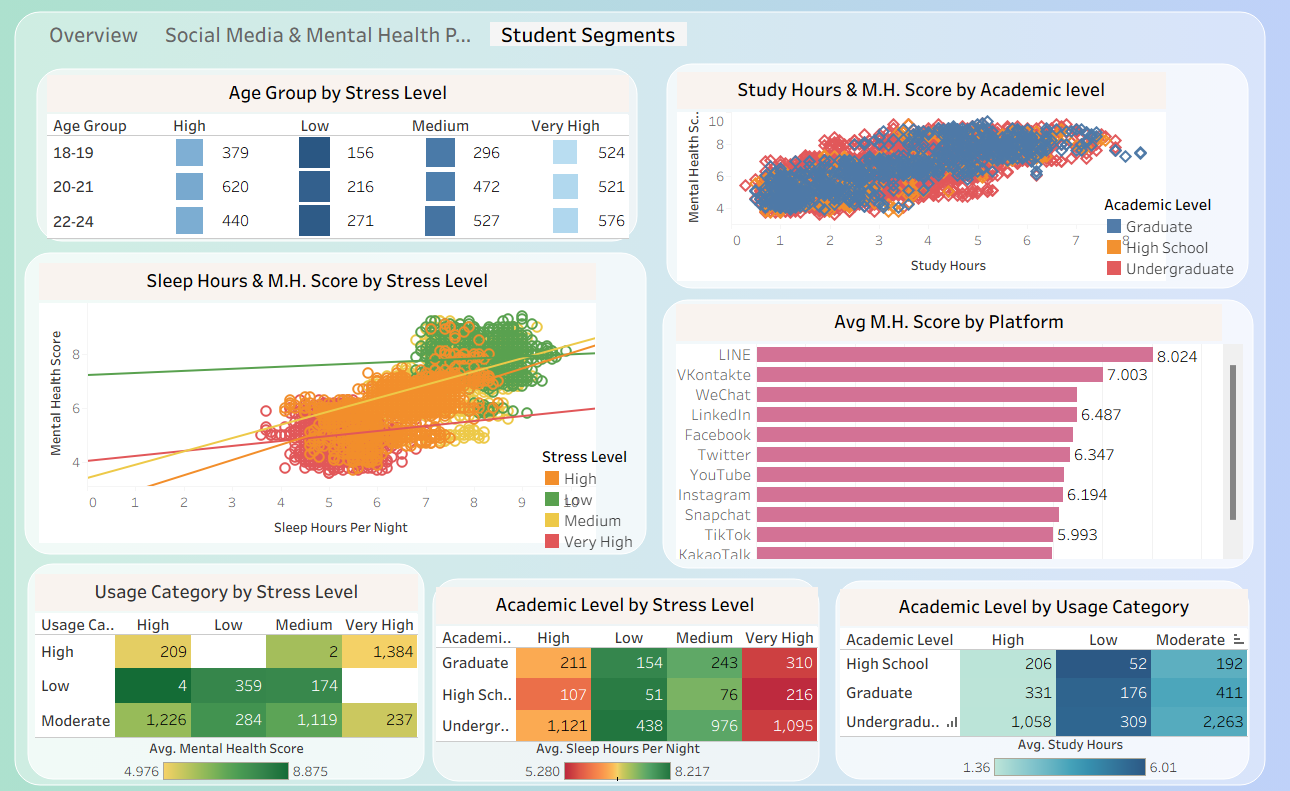

The dashboard page shown, as its layout file describes it:
{"tool":"tableau","page":{"name":"Student Segment","canvas":[1300,800],"ordinal":3},"visuals":[{"type":"image","param":"C:/Users/user/Videos/Project/Student Social Media & Mental Health/Green - Blue B","box":[0,0,1300,800]},{"type":"worksheet","title":"Gb-Back","mark":"Automatic","box":[0,0,1300,800]},{"type":"dashboard-object","box":[35,21,127,32]},{"type":"dashboard-object","box":[162,21,328,32]},{"type":"dashboard-object","box":[490,21,205,32]},{"type":"worksheet","title":"Study Hours vs Score","mark":"Automatic","rows":["Mental_Health_Score"],"cols":["Study_Hours"],"box":[681,75,489,209]},{"type":"worksheet","title":"Age Grp by Stress","mark":"Automatic","rows":["Calculation_3693028464959494"],"cols":["Stress_Level"],"box":[51,78,582,164]},{"type":"legend","title":"Study Hours vs Score","param":"[federated.1290blm1tqtw5o11xgozc0wntkdx].[none:Academic_Level:nk]","box":[1108,197,140,85]},{"type":"worksheet","title":"Sleep vs Score","mark":"Automatic","rows":["Mental_Health_Score"],"cols":["Sleep_Hours_Per_Night"],"box":[43,266,557,280]},{"type":"worksheet","title":"Avg Score by Platform","mark":"Bar","rows":["Most_Used_Platform"],"cols":["Mental_Health_Score"],"box":[680,307,567,255]},{"type":"legend","title":"Sleep vs Score","param":"[federated.1290blm1tqtw5o11xgozc0wntkdx].[none:Stress_Level:nk]","box":[546,449,96,106]},{"type":"worksheet","title":"Sheet 18","mark":"Square","rows":["Calculation_3693028466761735"],"cols":["Stress_Level"],"box":[39,577,383,164]},{"type":"worksheet","title":"Sheet 19","mark":"Square","rows":["Academic_Level"],"cols":["Stress_Level"],"box":[440,590,382,155]},{"type":"worksheet","title":"Sheet 20","mark":"Square","rows":["Academic_Level"],"cols":["Calculation_3693028466761735"],"box":[844,592,408,148]},{"type":"legend","title":"Sheet 20","param":"[federated.1290blm1tqtw5o11xgozc0wntkdx].[avg:Study_Hours:qk]","box":[963,738,223,43]},{"type":"legend","title":"Sheet 18","param":"[federated.1290blm1tqtw5o11xgozc0wntkdx].[avg:Mental_Health_Score:qk]","box":[124,742,213,43]},{"type":"legend","title":"Sheet 19","param":"[federated.1290blm1tqtw5o11xgozc0wntkdx].[avg:Sleep_Hours_Per_Night:qk]","box":[525,742,194,42]}]}

Visuals, with their boxes in screenshot pixels (x1, y1, x2, y2), scaled from the page's 1300x800 canvas onto the 1290x791 screenshot:
image: (0,0,1289,790)
"Gb-Back" worksheet: (0,0,1289,790)
dashboard-object: (35,21,161,52)
dashboard-object: (161,21,486,52)
dashboard-object: (486,21,690,52)
"Study Hours vs Score" worksheet: (676,74,1161,281)
"Age Grp by Stress" worksheet: (51,77,628,239)
"Study Hours vs Score" legend: (1099,195,1238,279)
"Sleep vs Score" worksheet: (43,263,595,540)
"Avg Score by Platform" worksheet (Bar marks): (675,304,1237,556)
"Sleep vs Score" legend: (542,444,637,549)
"Sheet 18" worksheet (Square marks): (39,571,419,733)
"Sheet 19" worksheet (Square marks): (437,583,816,737)
"Sheet 20" worksheet (Square marks): (838,585,1242,732)
"Sheet 20" legend: (956,730,1177,772)
"Sheet 18" legend: (123,734,334,776)
"Sheet 19" legend: (521,734,713,775)
